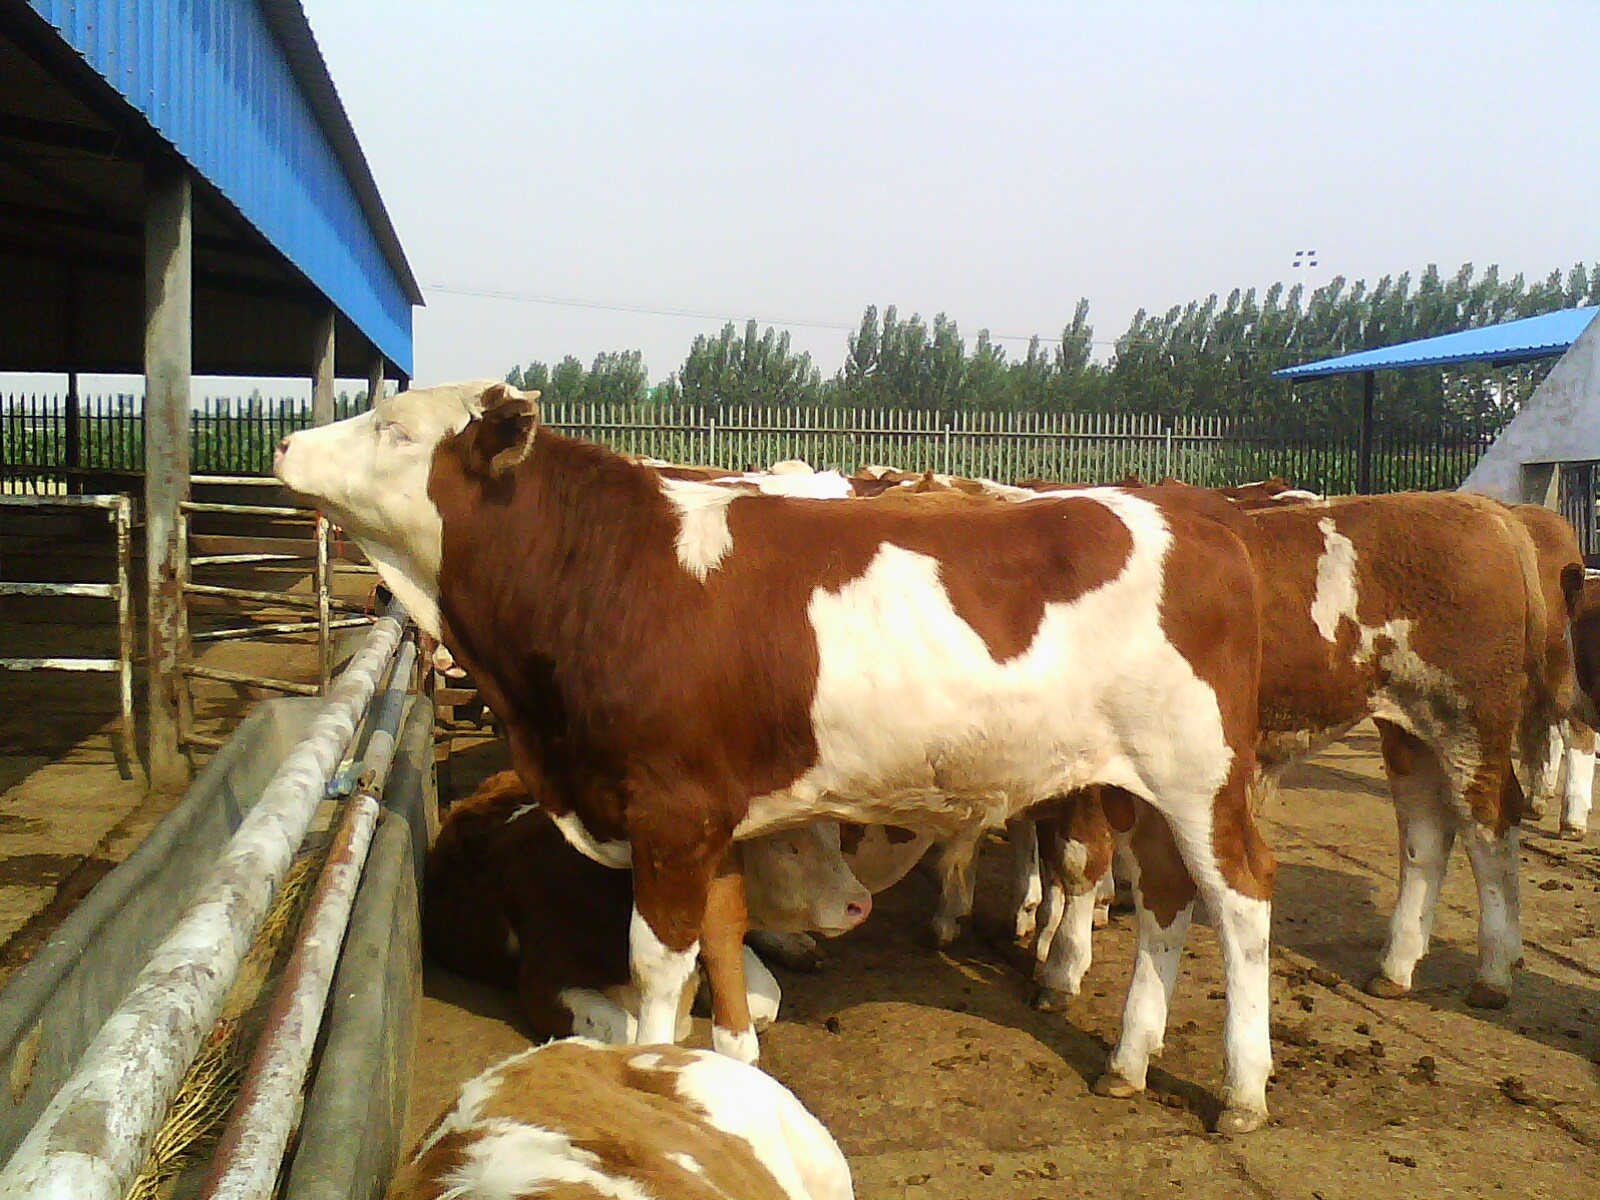background: (263, 376, 1349, 1084)
